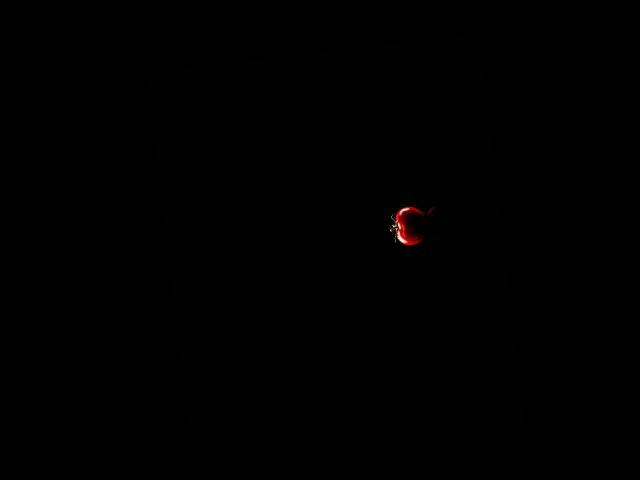tomato: (392, 205, 427, 247)
